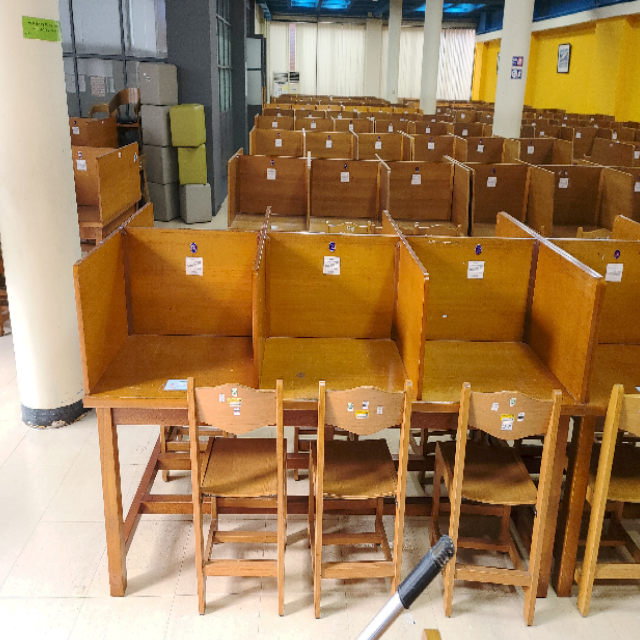empty: (80, 231, 265, 501), (427, 236, 582, 519), (269, 227, 421, 482)
